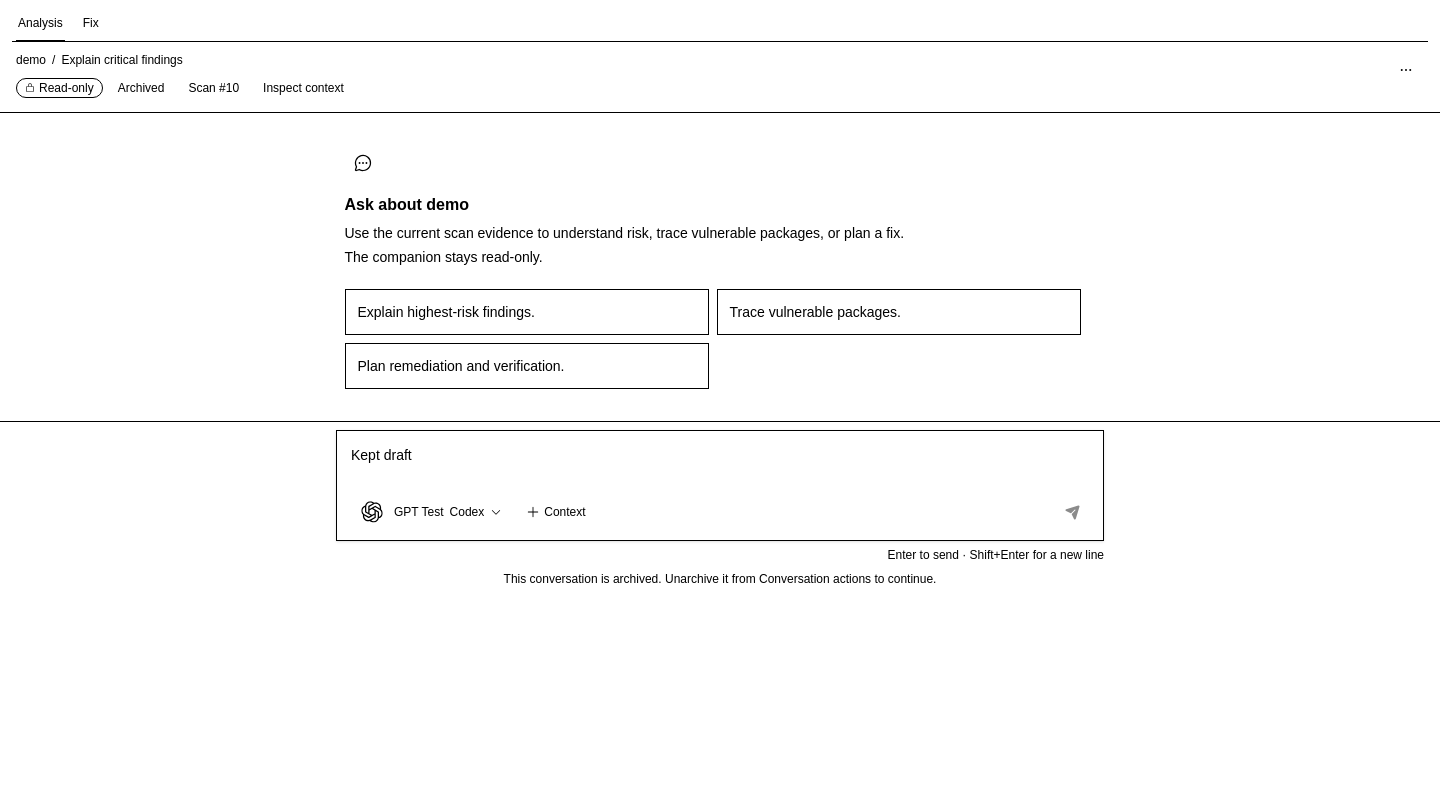
RepositoryChat › reports archive state truthfully and contains a failed rename
Expected: the text "Archived" is shown, 118,81 -> 164,95
Expected: the text "This conversation is archived" is shown, 504,572 -> 936,586
Click the button named "Conversation actions" at point(1406, 70), box 1388,52 -> 1424,88
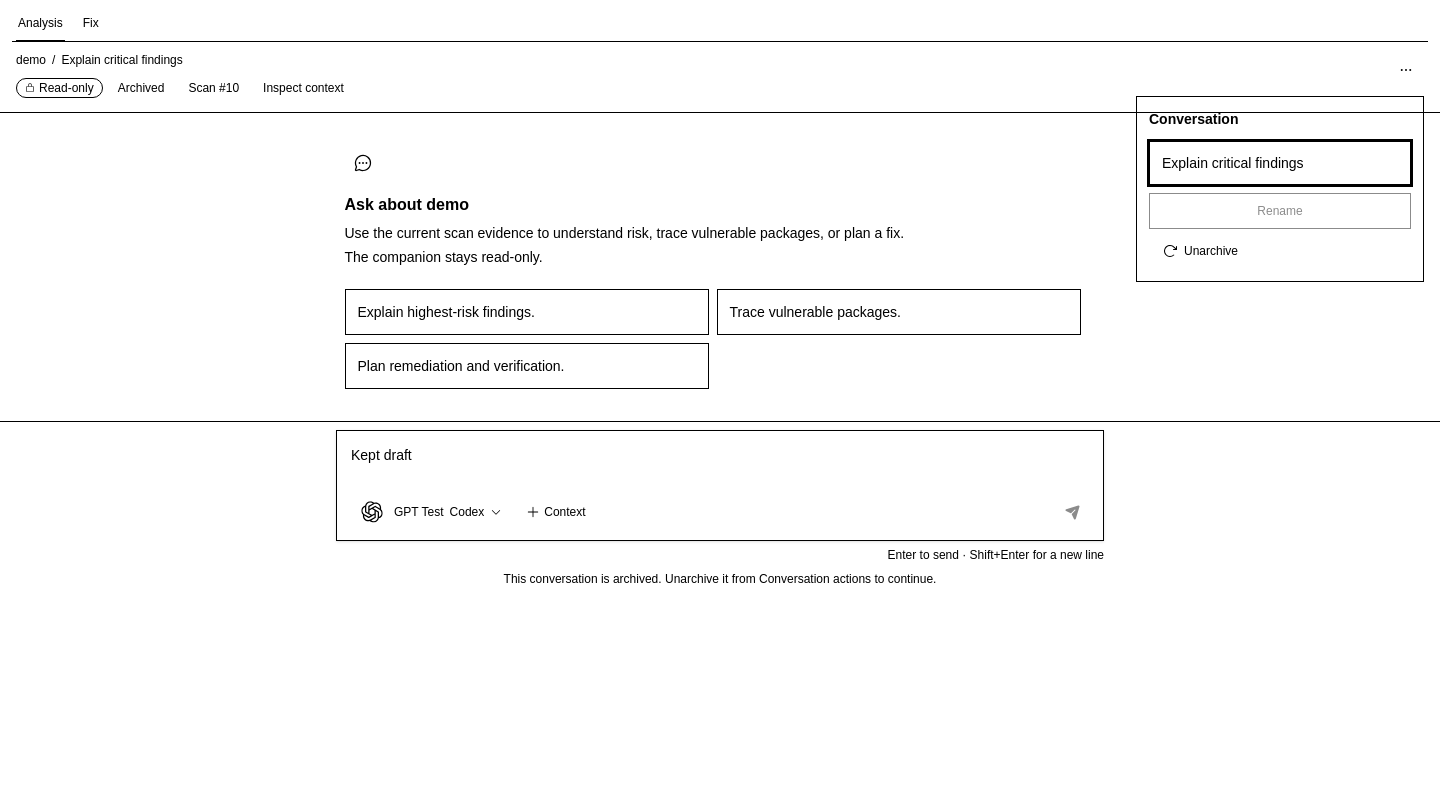
Replace the text in the field named "Conversation title" with "New title" at point(1280, 163), box 1149,141 -> 1411,185
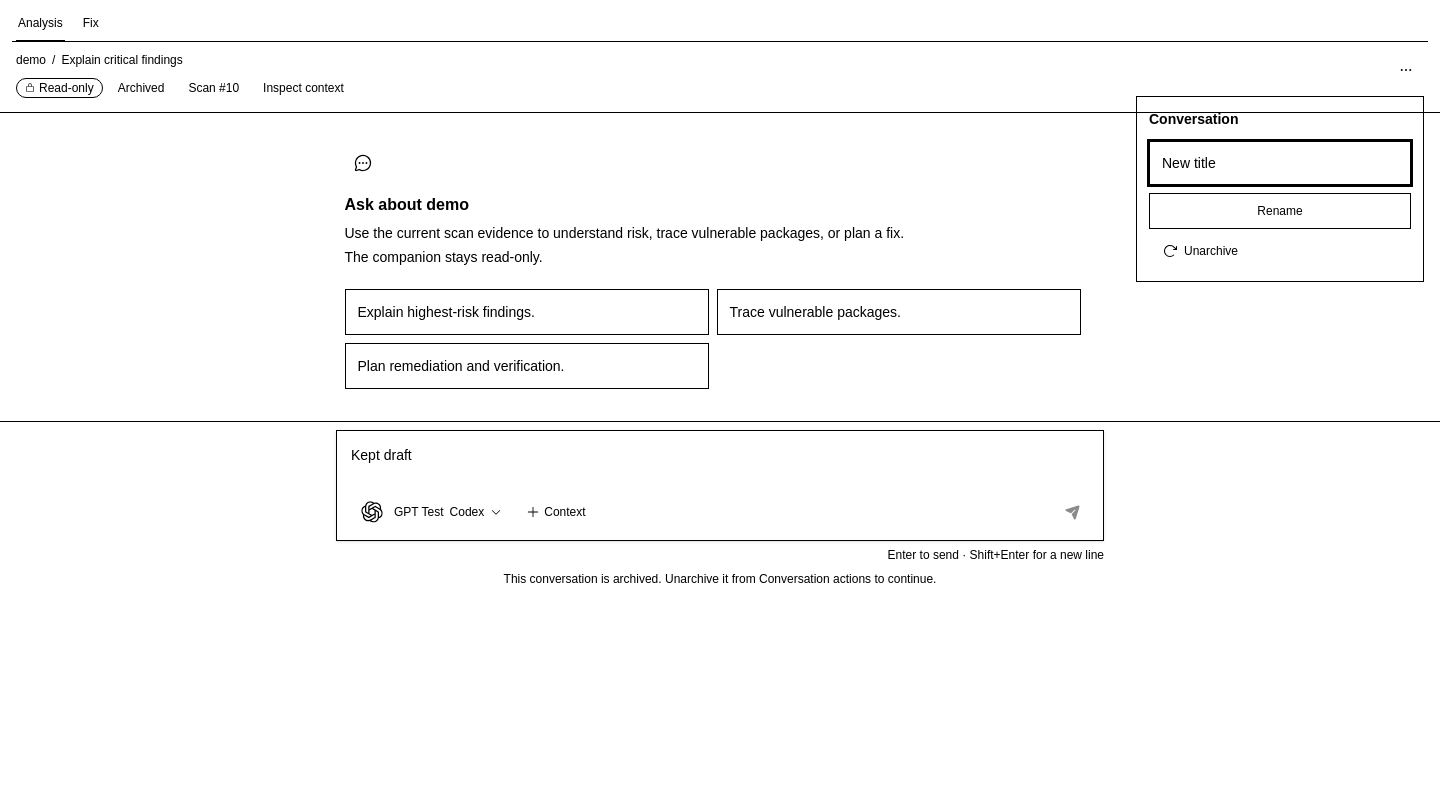
Press Enter in the field named "Conversation title", box 1149,141 -> 1411,185
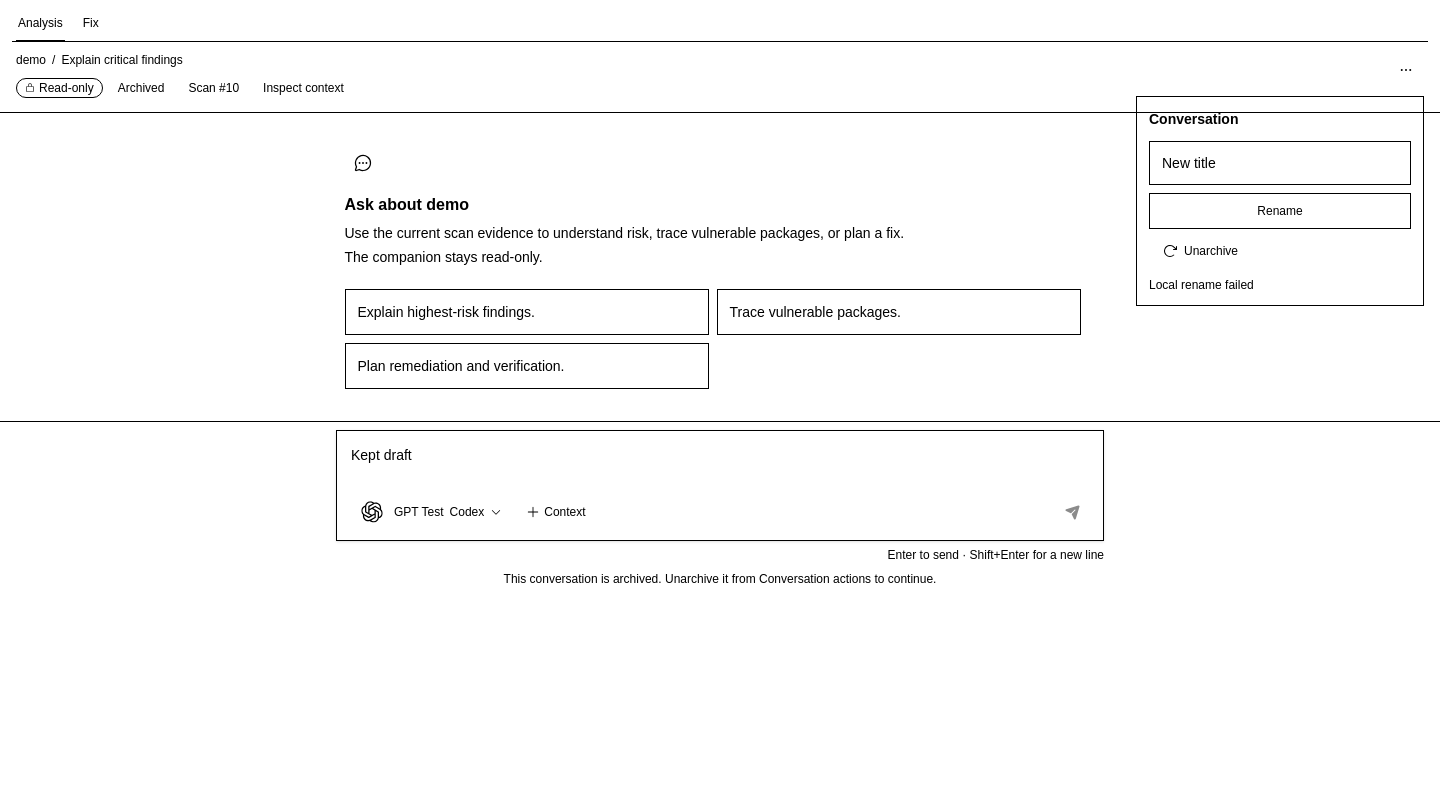
Expected: the button "Rename" is enabled, 1149,193 -> 1411,229
Expected: the button "Unarchive" is enabled, 1149,233 -> 1411,269
Expected: the message reads "Local rename failed", 1149,278 -> 1254,292
